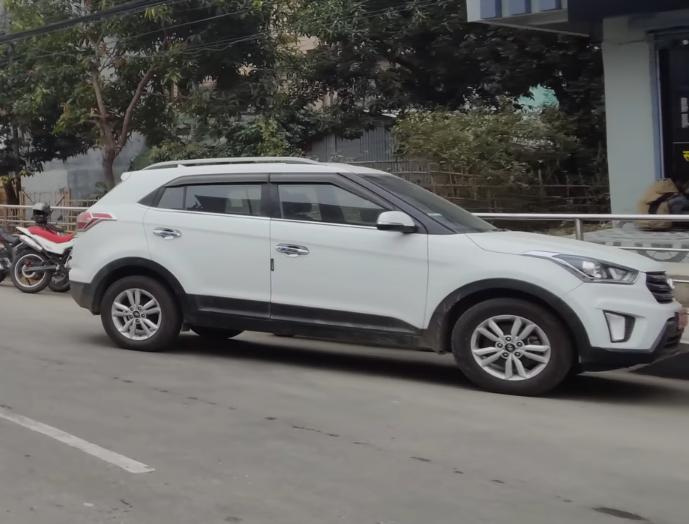bike: (11, 222, 78, 298)
car: (49, 154, 676, 387)
